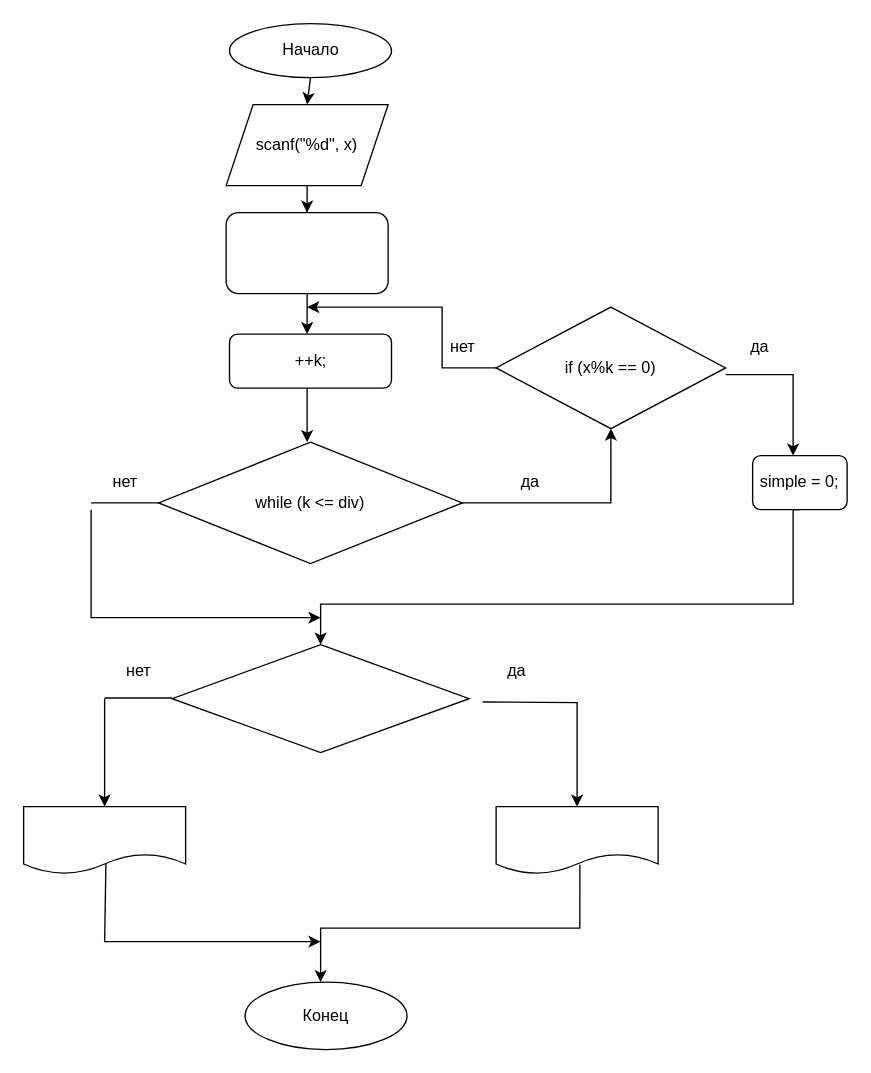
This 871x1073 diagram has some shape labels left out. Here are the shapes that lost their labels. From the top down, the box of each, then its label:
(225, 211, 388, 294): div = x/2; k = 1; simple = 1;
(171, 643, 469, 753): if (simple == 0)
(22, 805, 186, 874): x is not simple
(495, 805, 658, 874): x is simple
